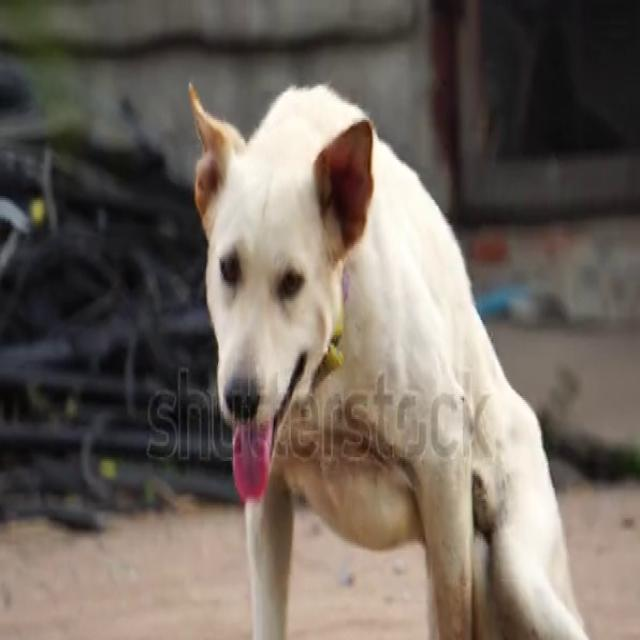normal_animals: (182, 74, 616, 638)
